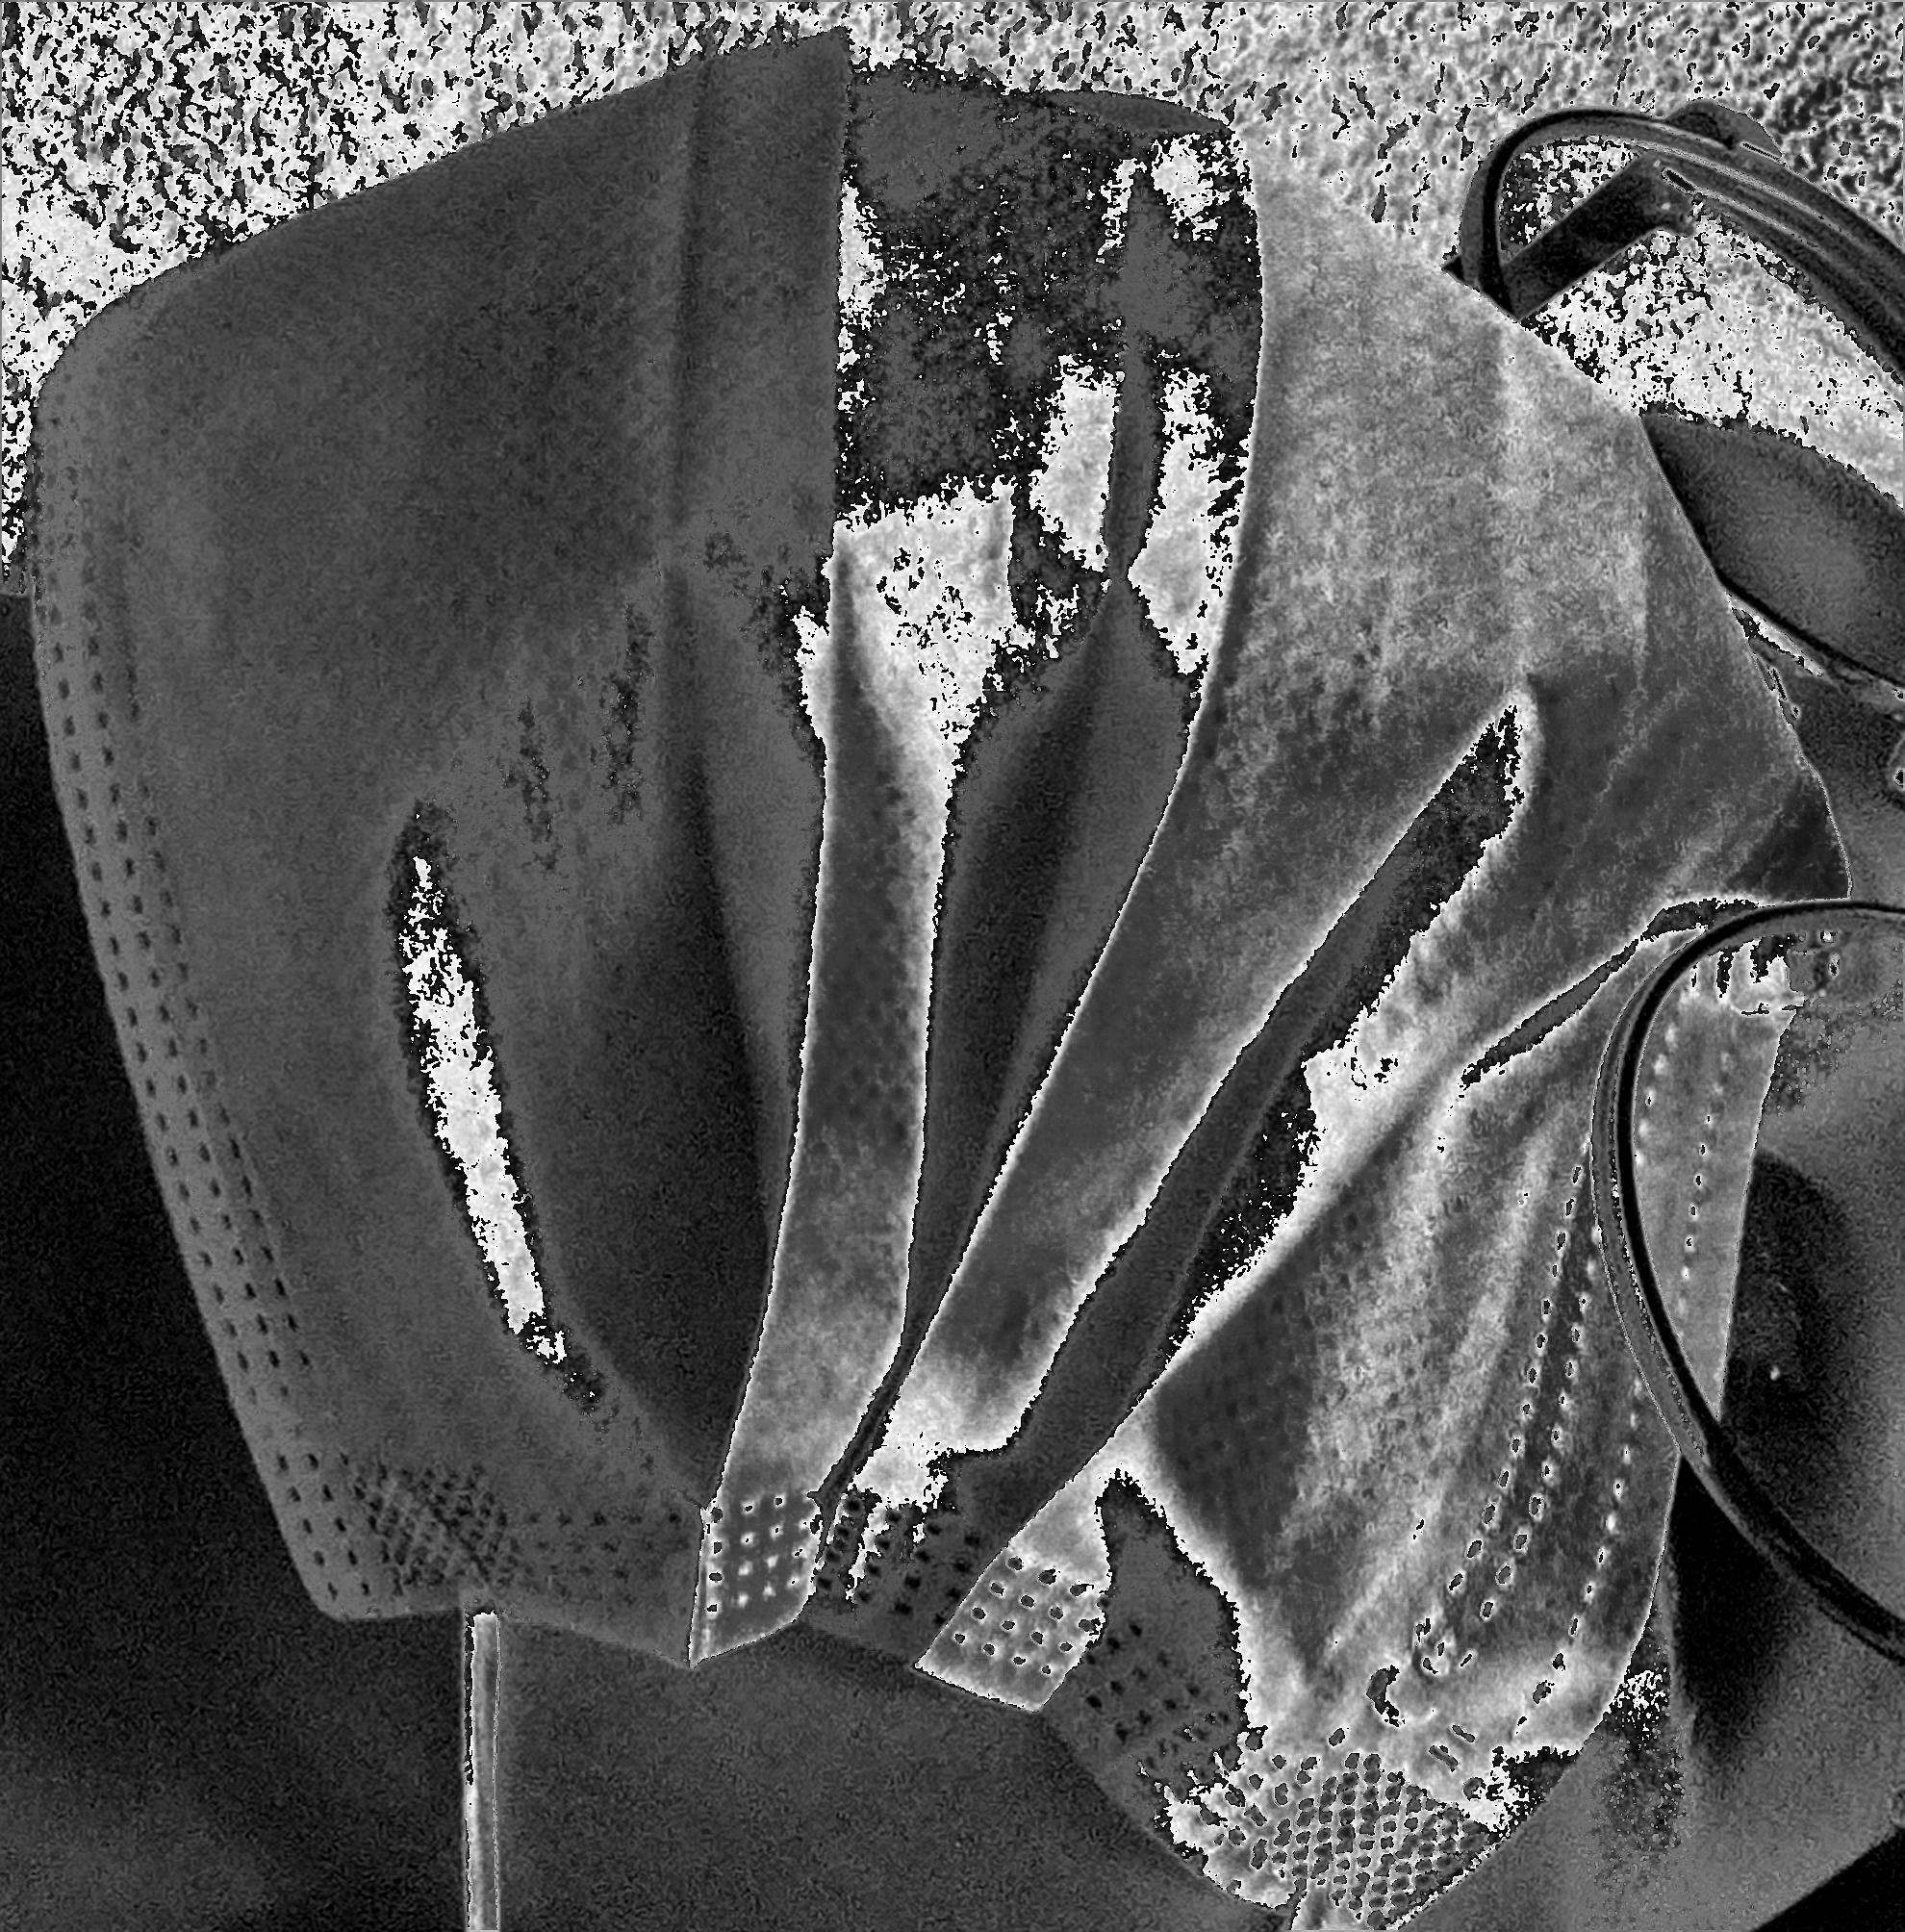Low GSM: (968, 756, 1483, 1482), (705, 220, 1171, 724), (1219, 414, 1622, 799)
